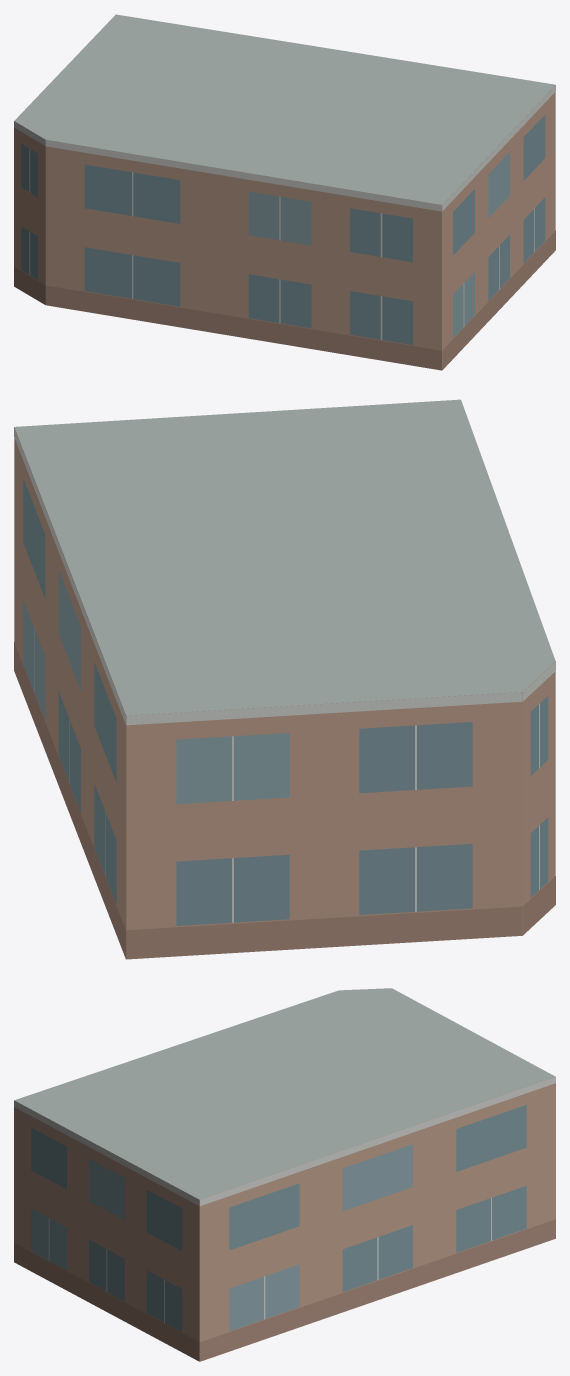
File: survey-upis-32675484.glb
3 renders of one model, top to bottom at view 1: azimuth 30°, elevation 25°; view 2: azimuth 150°, elevation 25°; view 3: azimuth 270°, elevation 25°, orthographic. The views are drawn at different scales.
Visible parts, largest first — view 1: survey-upis-32675484.tmp; view 2: survey-upis-32675484.tmp; view 3: survey-upis-32675484.tmp.
Part boxes in pixels (x1,y1,x2,y2): survey-upis-32675484.tmp: (14, 14, 555, 370); survey-upis-32675484.tmp: (14, 399, 555, 959); survey-upis-32675484.tmp: (14, 988, 555, 1361).
Size of the model in its own units: 17.11 by 6.1 by 18.5.
